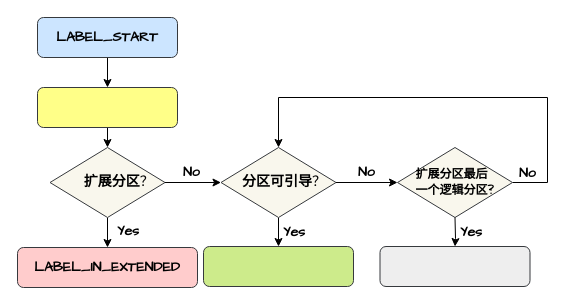
Some shapes in this 573 by 305 pixel diagram are drawn without their labels. The shapes that lost their labels are listed below. From the top down, each one's box as (x1, y1, x2, y2) in pixels, then its label:
(36, 86, 178, 128): CHECK_PARTITION
(202, 246, 354, 286): LABEL_ACTIVATE
(379, 246, 530, 286): LABEL_NOT_FOUND
